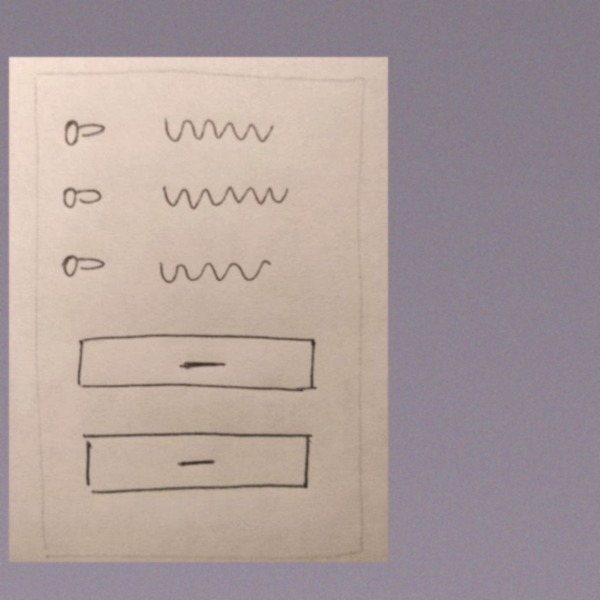button: (74, 424, 316, 508), (65, 328, 326, 399)
switch: (56, 105, 110, 151), (55, 246, 110, 281), (55, 180, 107, 217)
text: (156, 107, 278, 155), (150, 253, 280, 290), (155, 177, 291, 212)
